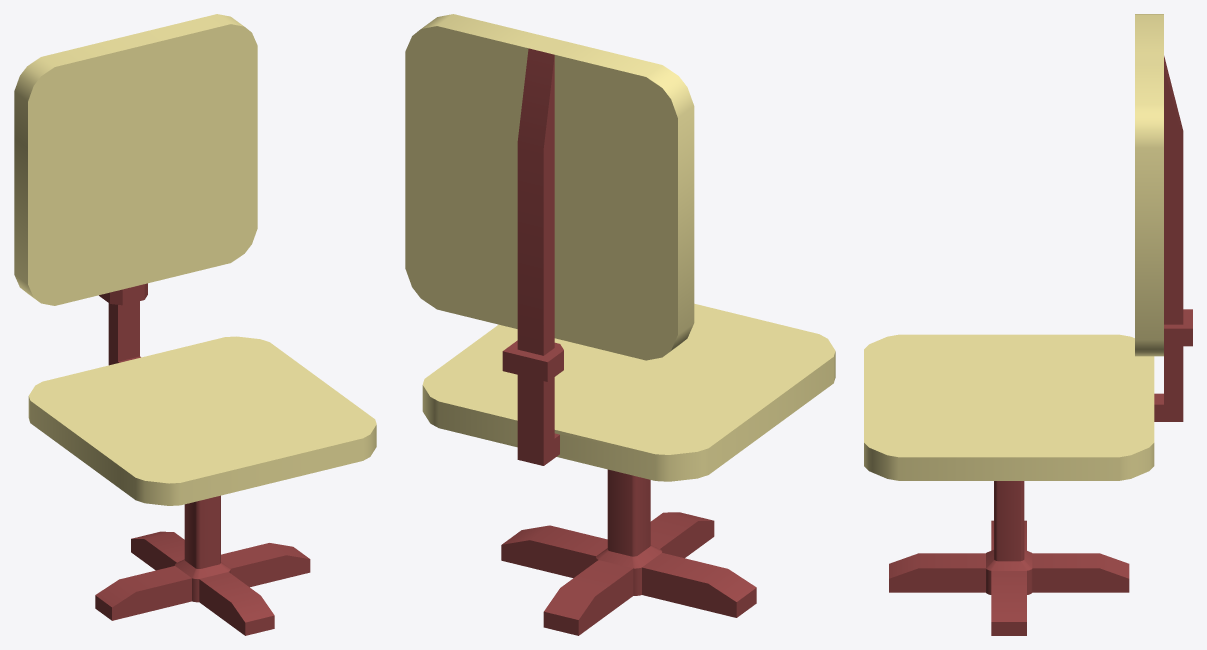
Rendered from Cadeira de Escritório.FBX.
The picture shows the model from 3 angles, left to right: view 1: azimuth 30°, elevation 25°; view 2: azimuth 150°, elevation 25°; view 3: azimuth 270°, elevation 25°; orthographic projection. The views are drawn at different scales.
Parts seen in each view (by area): view 1: Box030; view 2: Box030; view 3: Box030.
Part boxes in pixels (x1=…): Box030: x1=14, y1=14, x2=376, y2=635; Box030: x1=405, y1=14, x2=835, y2=635; Box030: x1=864, y1=14, x2=1192, y2=635.
Bounding box in the file's own units: 300 × 600 × 340.
